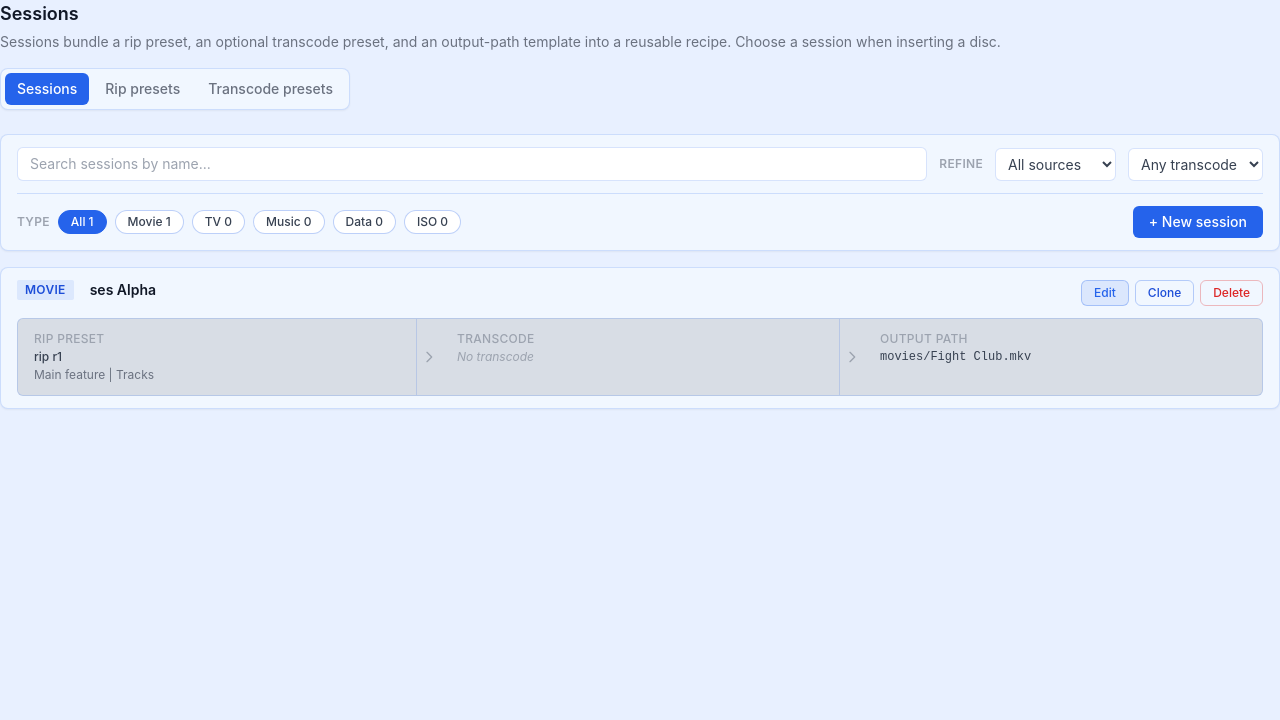
Test: builder cancel hides the builder
The width and height of the screenshot is (1280, 720).
Click the button "+ New session" at (1198, 222), box [1133,206,1263,238]
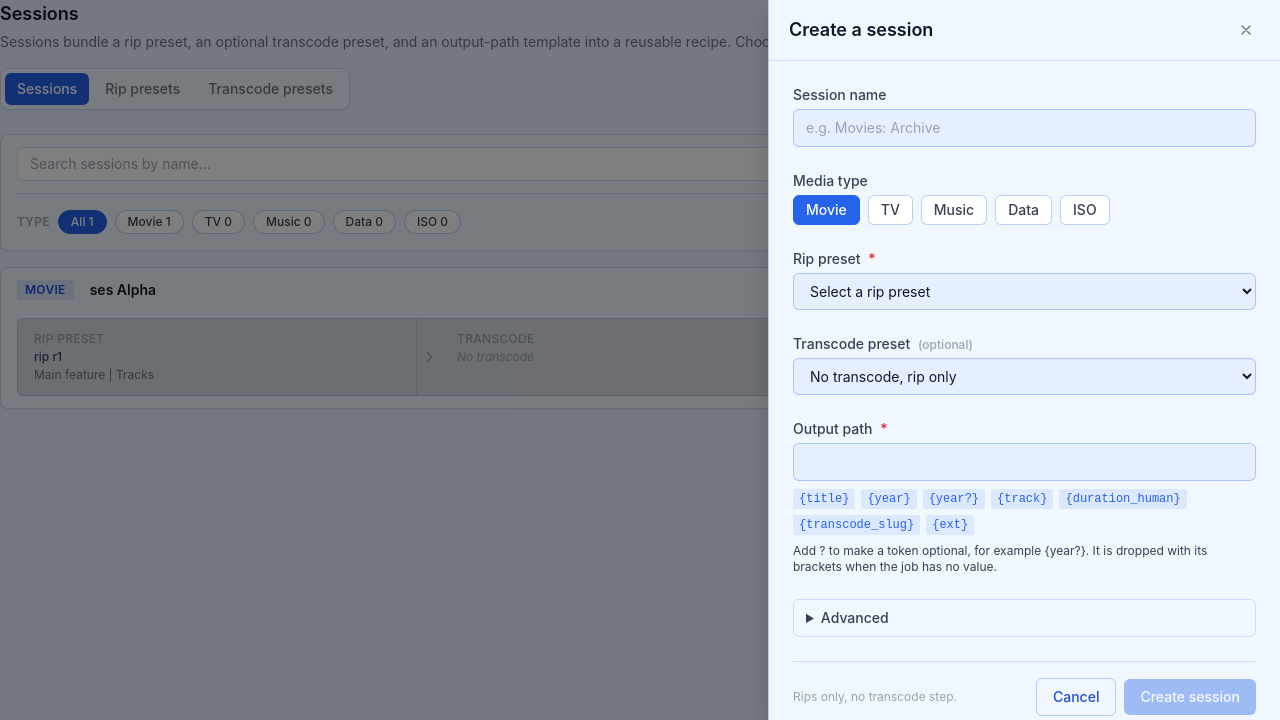
Click the button "Cancel" at (1076, 697), box [1036,678,1116,716]
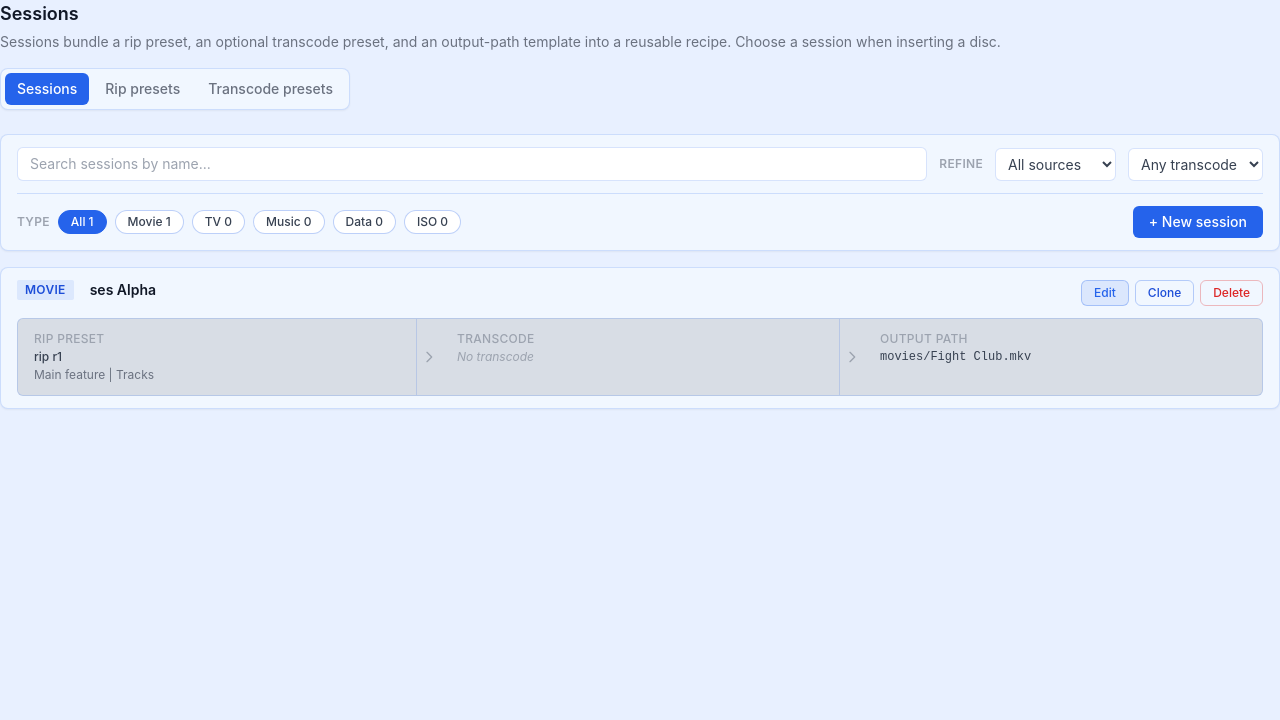
Now the heading "Create a session" is gone
